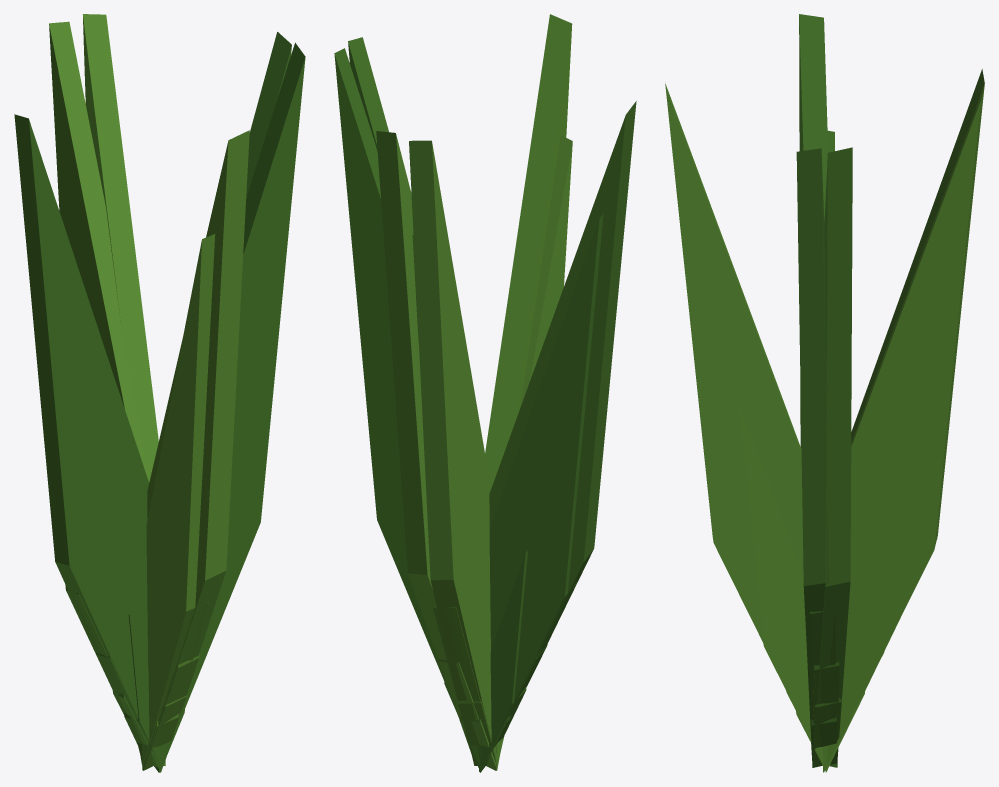
Rendered from Crop_Veg_Taro.fbx.
3 views of the same model, side by side, from view 1: azimuth 30°, elevation 25°; view 2: azimuth 150°, elevation 25°; view 3: azimuth 270°, elevation 25° (orthographic).
Visible parts, largest first — view 1: Crop_Veg_Taro__S4, Crop_Veg_Taro__S3, Crop_Veg_Taro__S1, Crop_Veg_Taro__S2, Crop_Veg_Taro__S5; view 2: Crop_Veg_Taro__S4, Crop_Veg_Taro__S3, Crop_Veg_Taro__S5, Crop_Veg_Taro__S2, Crop_Veg_Taro__S1; view 3: Crop_Veg_Taro__S4, Crop_Veg_Taro__S2, Crop_Veg_Taro__S5, Crop_Veg_Taro__S3, Crop_Veg_Taro__S1.
Boxes of the visible parts, <box> form: Crop_Veg_Taro__S4: <box>14,14,305,772</box>; Crop_Veg_Taro__S3: <box>65,234,215,772</box>; Crop_Veg_Taro__S1: <box>124,614,184,772</box>; Crop_Veg_Taro__S2: <box>96,652,199,772</box>; Crop_Veg_Taro__S5: <box>112,690,186,771</box>; Crop_Veg_Taro__S4: <box>334,14,636,772</box>; Crop_Veg_Taro__S3: <box>412,135,603,771</box>; Crop_Veg_Taro__S5: <box>444,550,528,771</box>; Crop_Veg_Taro__S2: <box>438,644,547,759</box>; Crop_Veg_Taro__S1: <box>458,716,511,771</box>; Crop_Veg_Taro__S4: <box>665,14,984,771</box>; Crop_Veg_Taro__S2: <box>737,400,884,772</box>; Crop_Veg_Taro__S5: <box>770,539,864,772</box>; Crop_Veg_Taro__S3: <box>809,130,900,770</box>; Crop_Veg_Taro__S1: <box>796,711,851,772</box>.
Size of the model in its own units: 0.1003 by 0.2376 by 0.1002.
